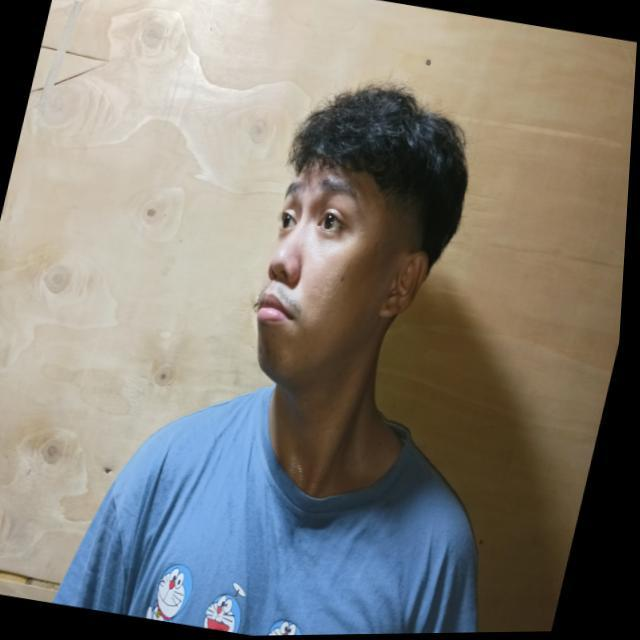Nonhelmet: (246, 79, 473, 389)
